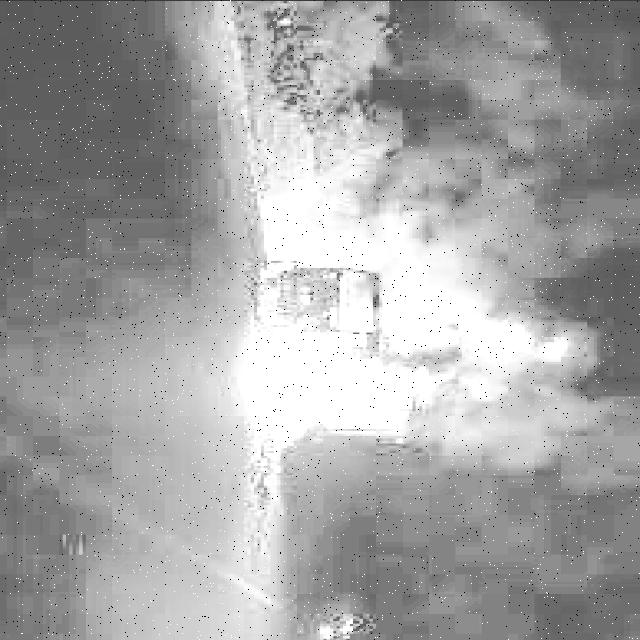api: (255, 266, 397, 471), (387, 293, 588, 409)
